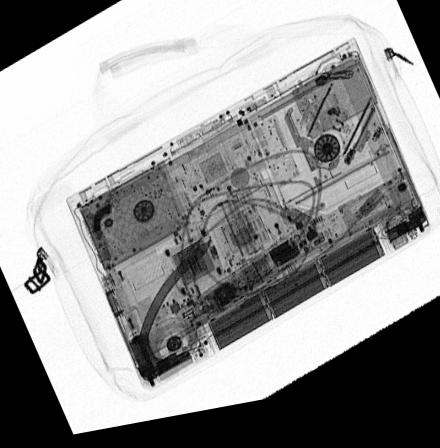Baton: (175, 233, 322, 344)
